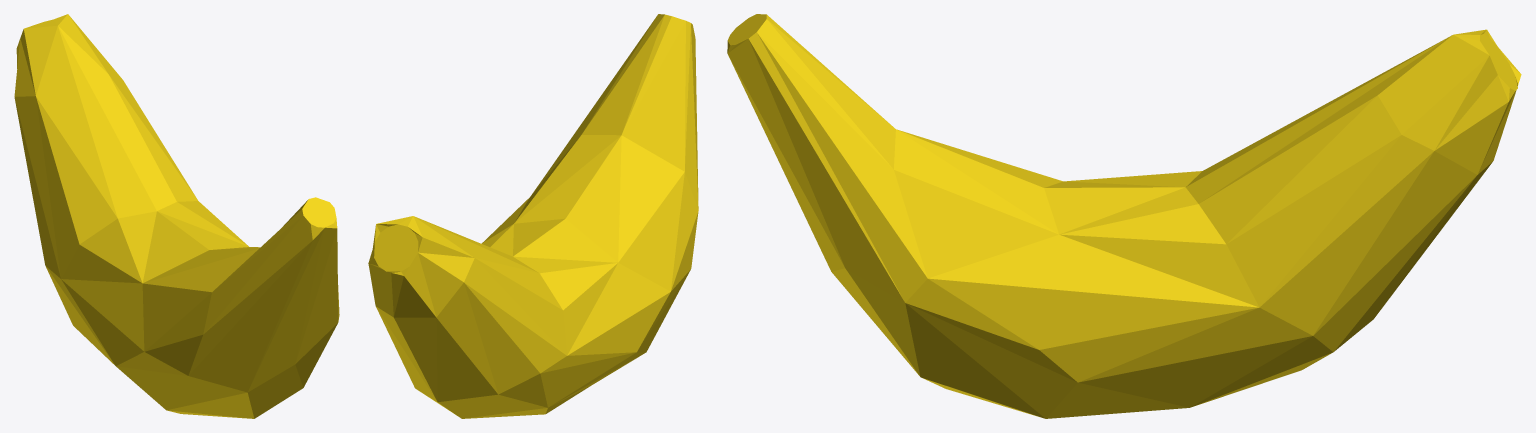
Rendered from banane.fbx.
3 renders of one model, left to right at view 1: azimuth 30°, elevation 25°; view 2: azimuth 150°, elevation 25°; view 3: azimuth 270°, elevation 25°, orthographic. The views are drawn at different scales.
Parts seen in each view (by area): view 1: Loft_1; view 2: Loft_1; view 3: Loft_1.
Boxes of the visible parts, x1,y1,x2,y2 form: Loft_1: (14, 14, 339, 418); Loft_1: (368, 14, 698, 418); Loft_1: (727, 14, 1521, 418).
Bounding box in the file's own units: 36.89 × 59.16 × 110.
1 material, 1 textured.
